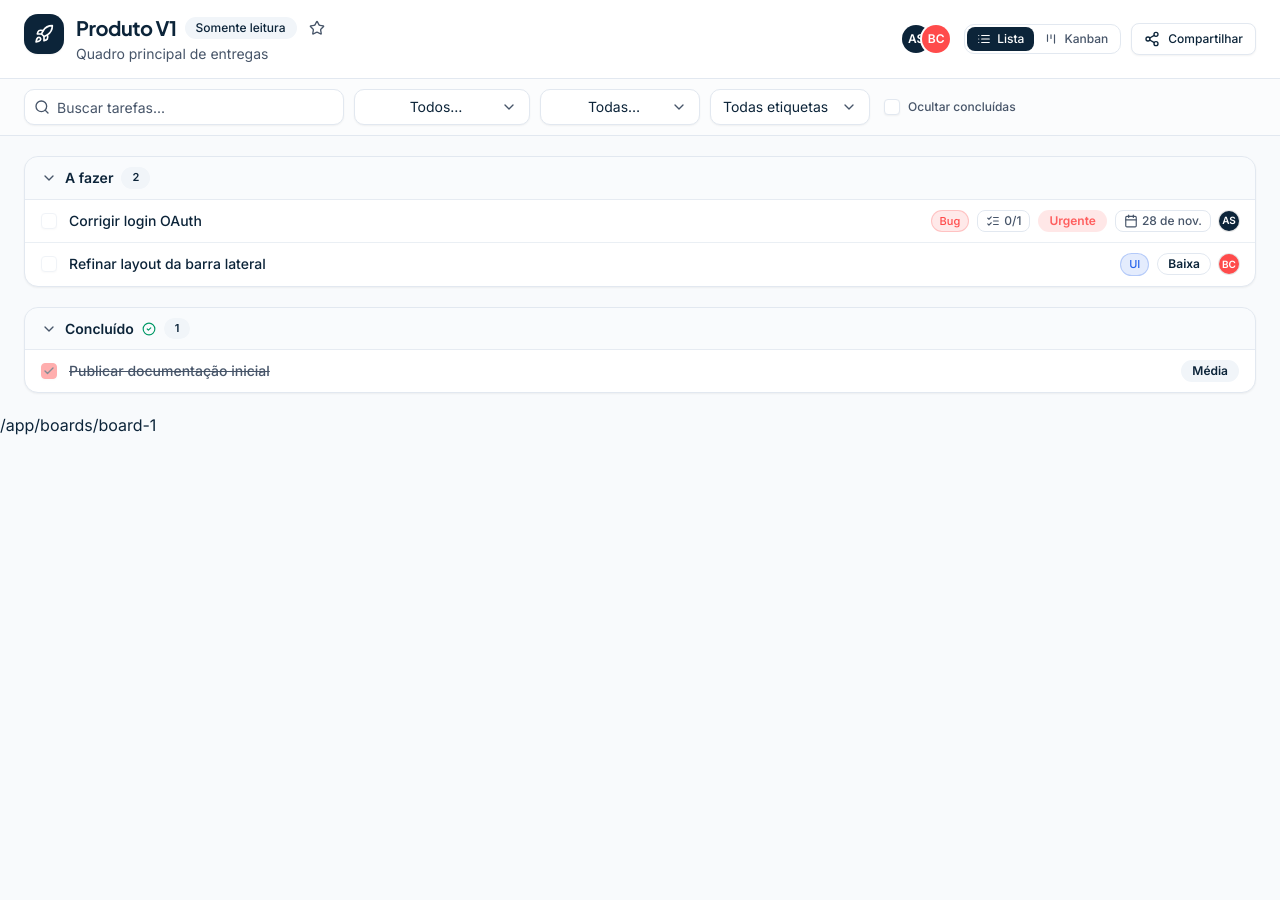
Test: BoardPage List View & TaskDrawer › viewerSeesReadOnlyBadgeAndCannotMutateOrToggleTasks
Expected: the heading "Produto V1" is shown, [76,14,176,42]
Expected: the text "Somente leitura" is shown, [184,17,296,39]
Click the button "Corrigir login OAuth" at (135, 220), box [69,211,923,231]
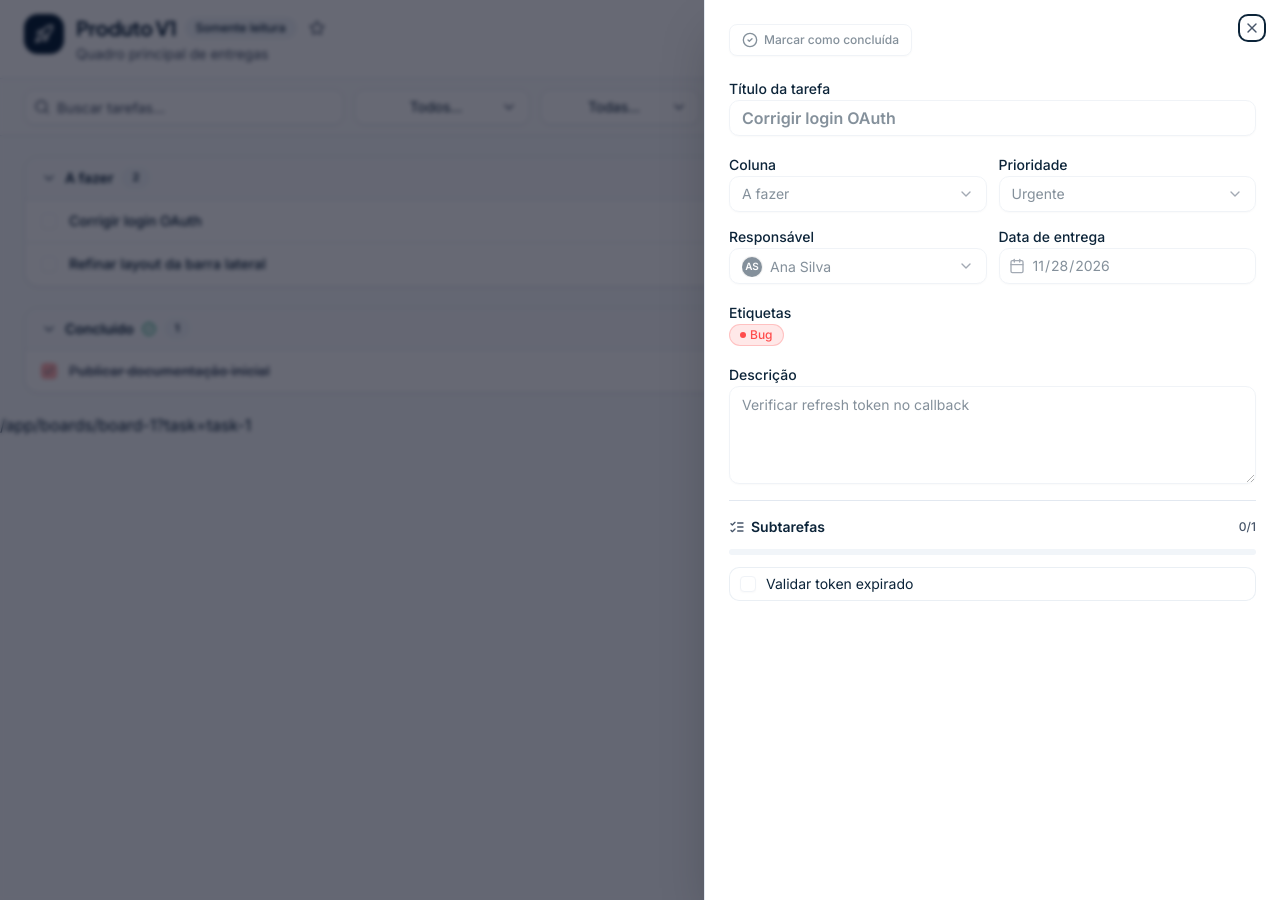
Now the field labelled "Título da tarefa" is disabled, box [729,100,1256,136]
Now the text box labelled "Descrição" is disabled, box [729,386,1256,484]
Now the date field labelled "Data de entrega" is disabled, box [998,248,1256,284]
